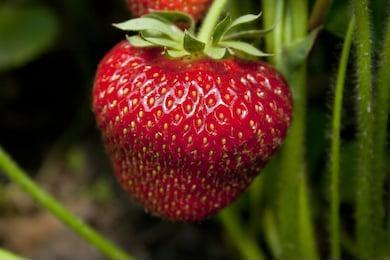Fresa: (86, 25, 293, 230)
